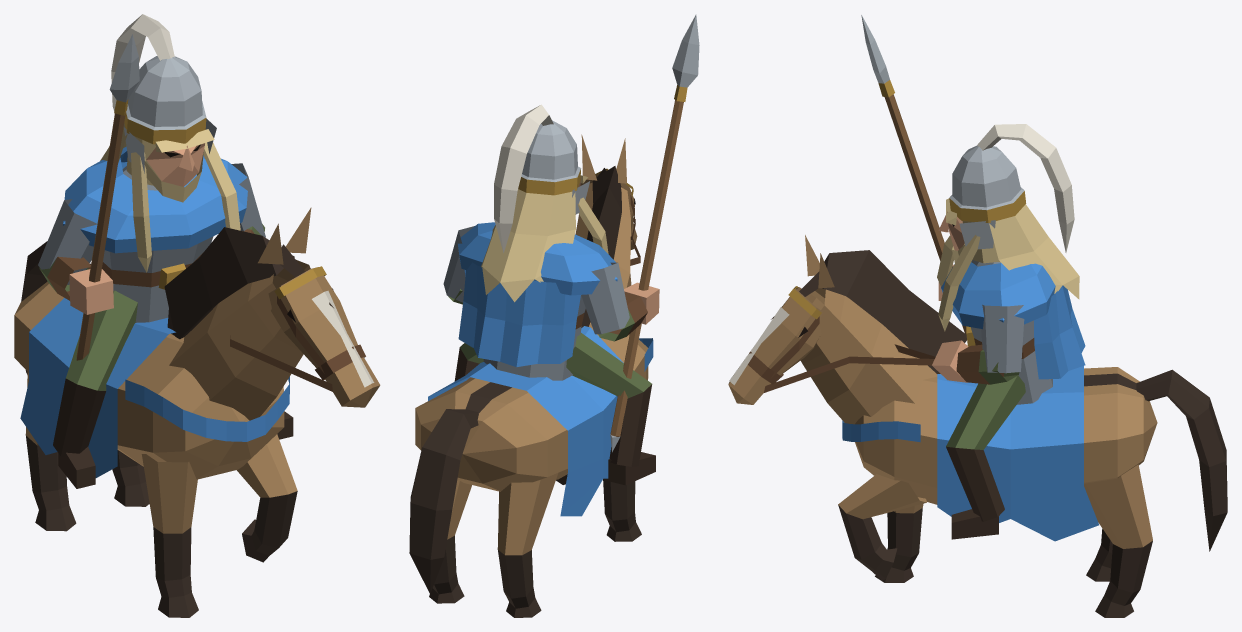
Rendered from eomer.glb.
3 views of the same model, side by side, from view 1: azimuth 30°, elevation 25°; view 2: azimuth 150°, elevation 25°; view 3: azimuth 270°, elevation 25° (orthographic). The views are drawn at different scales.
Visible parts, largest first — view 1: eomer; view 2: eomer; view 3: eomer.
Part boxes in pixels (x1,y1,x2,y2): eomer: (14,14,380,617); eomer: (409,14,699,617); eomer: (728,15,1227,617).
Bounding box in the file's own units: 0.7479 × 1.93 × 1.63.
